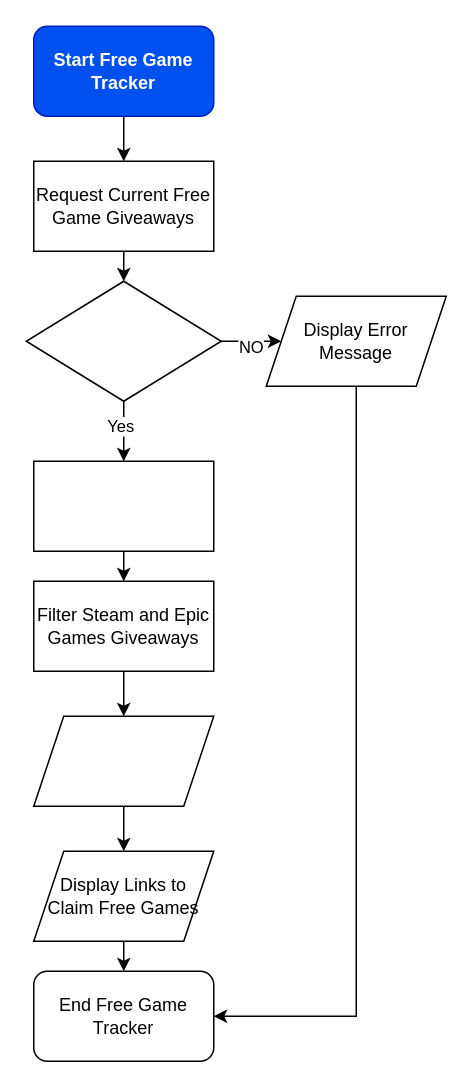
Some shapes in this 473 by 1088 pixel diagram are drawn without their labels. Each missing label, with the centre of its shape:
"API Request Successful?" belongs at [123,340].
"Display Game Titles, Platforms, and Expiration Dates" belongs at [123,760].
"Parse API Response into Game Data" belongs at [123,505].
